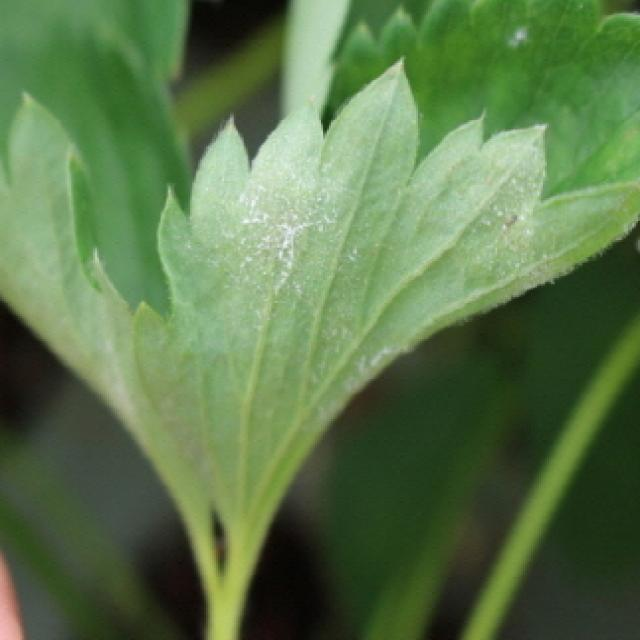Powdery Mildew Leaf: (129, 0, 640, 581)
